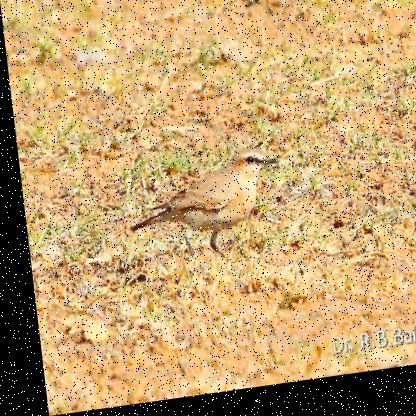Burung: (118, 149, 282, 269)
